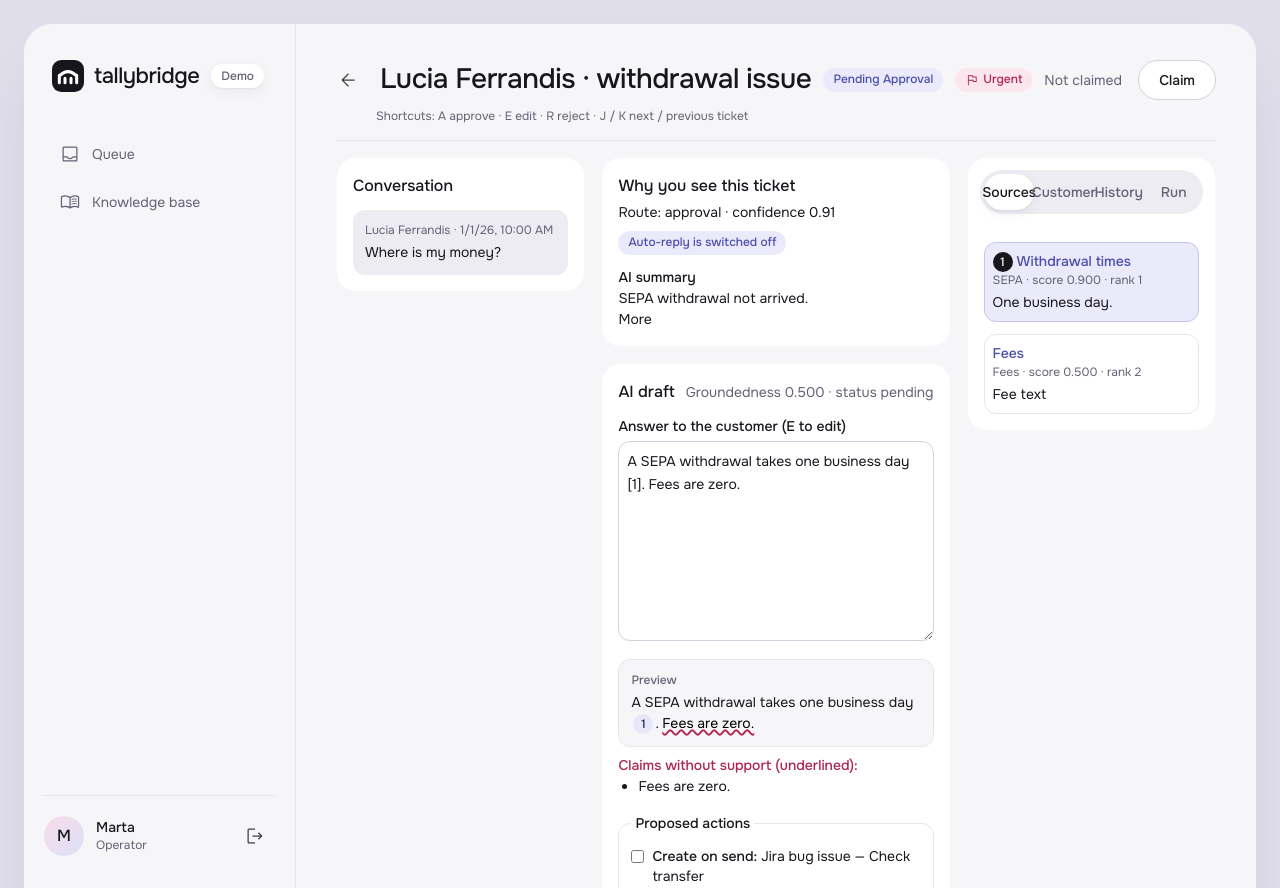
Test: ticket workspace › the Run tab shows each step with its duration and links the trace
Click the tab "Run": (1174, 192) [1148,174,1199,210]
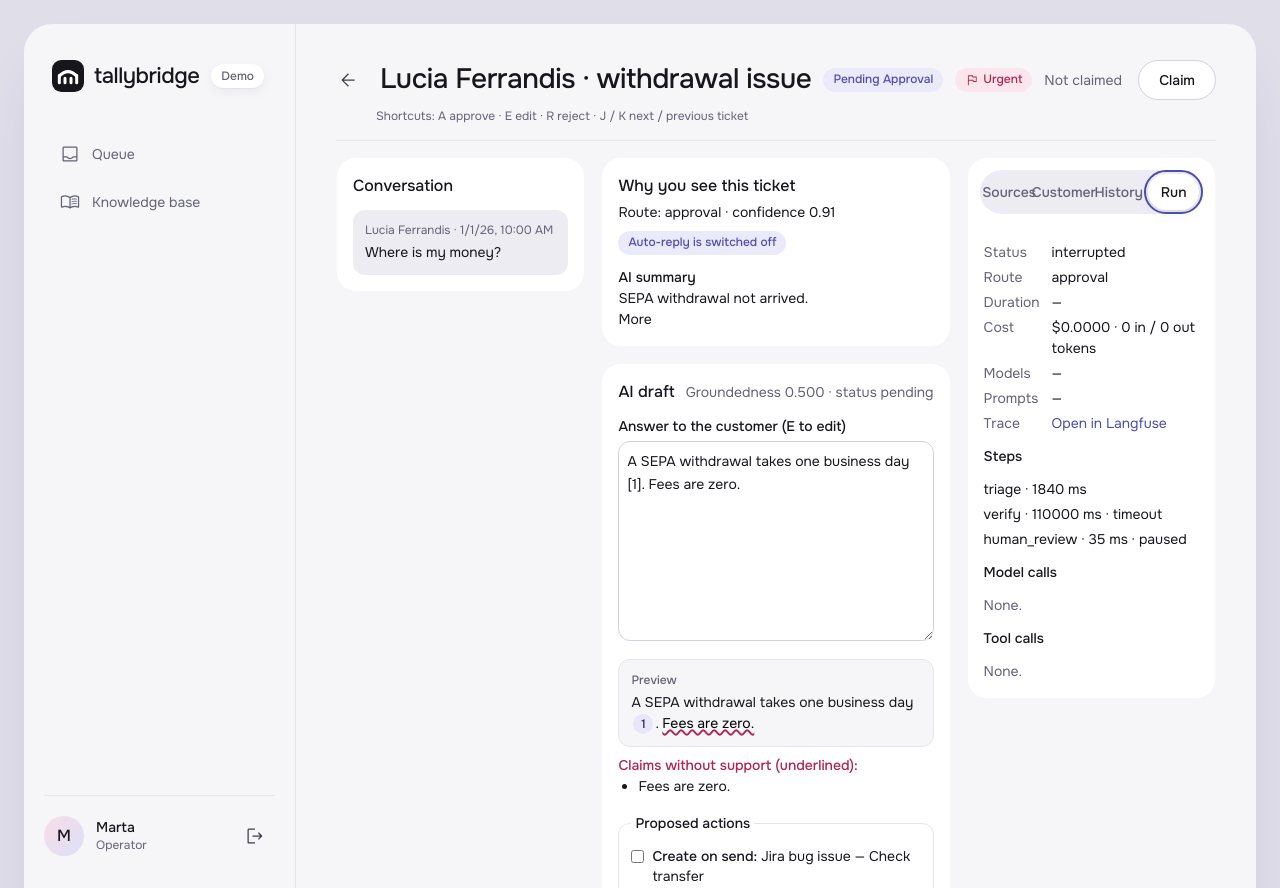
Expected: the list item "triage · 1840 ms" is shown, [984,480,1087,498]
Expected: the list item "verify · 110000 ms · timeout" is shown, [984,505,1162,523]
Expected: the list item "human_review · 35 ms · paused" is shown, [984,529,1199,550]
